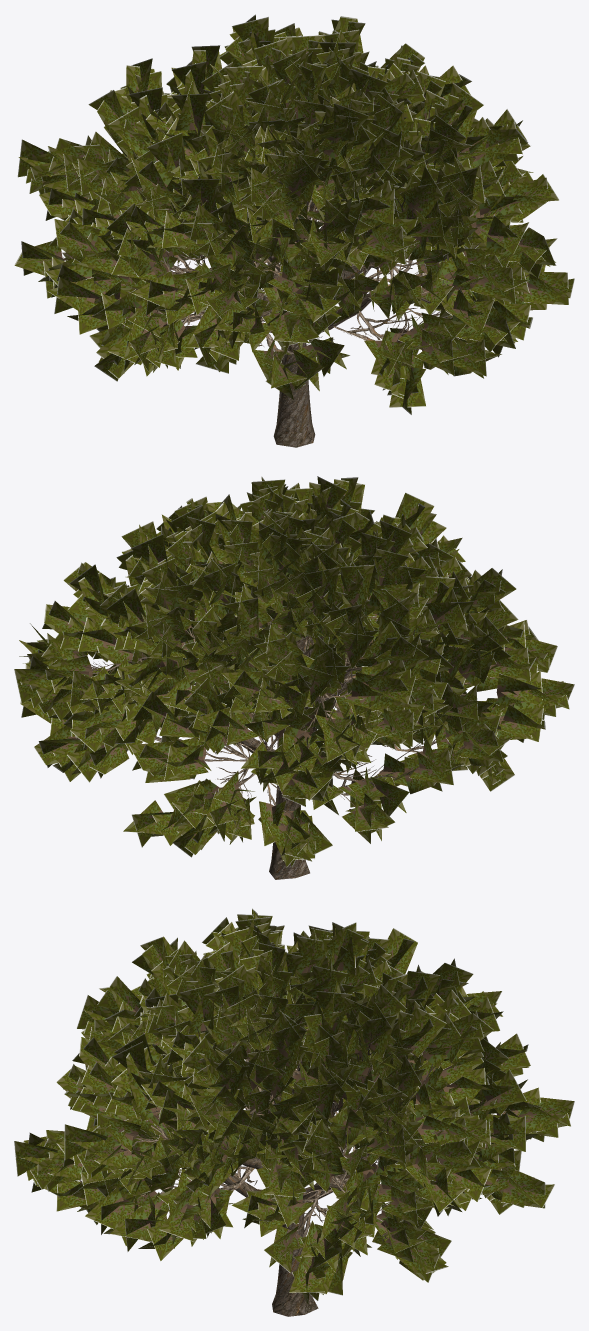
File: tree_1.glb
The picture shows the model from 3 angles, top to bottom: view 1: azimuth 30°, elevation 25°; view 2: azimuth 150°, elevation 25°; view 3: azimuth 270°, elevation 25°; orthographic projection. The views are drawn at different scales.
Parts seen in each view (by area): view 1: prop; view 2: prop; view 3: prop.
Boxes of the visible parts, x1=… form: prop: x1=14, y1=14, x2=574, y2=447; prop: x1=14, y1=476, x2=574, y2=879; prop: x1=14, y1=908, x2=574, y2=1316.
Bounding box in the file's own units: 10.89 × 8.5 × 11.24.
3 materials, 3 textured.
